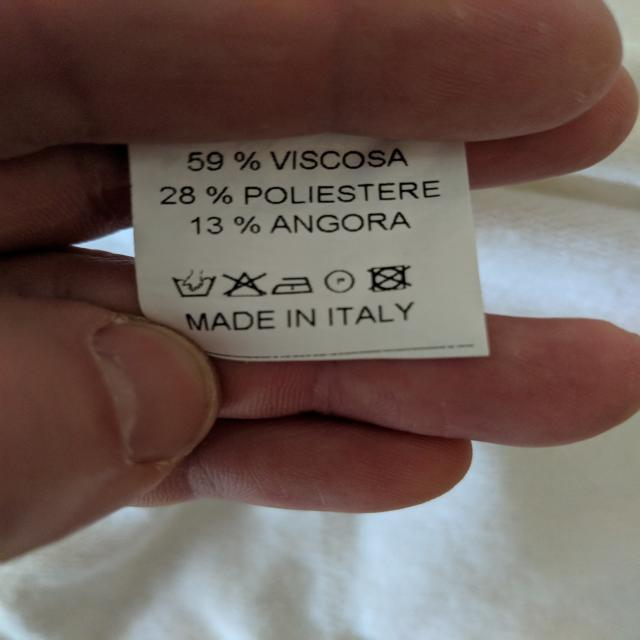DN_bleach: (223, 269, 267, 300)
DN_tumble_dry: (367, 263, 415, 292)
dry_clean_any_solvent_except_trichloroethylene: (322, 269, 358, 293)
hand_wash: (168, 265, 219, 304)
iron_low: (271, 273, 316, 297)
